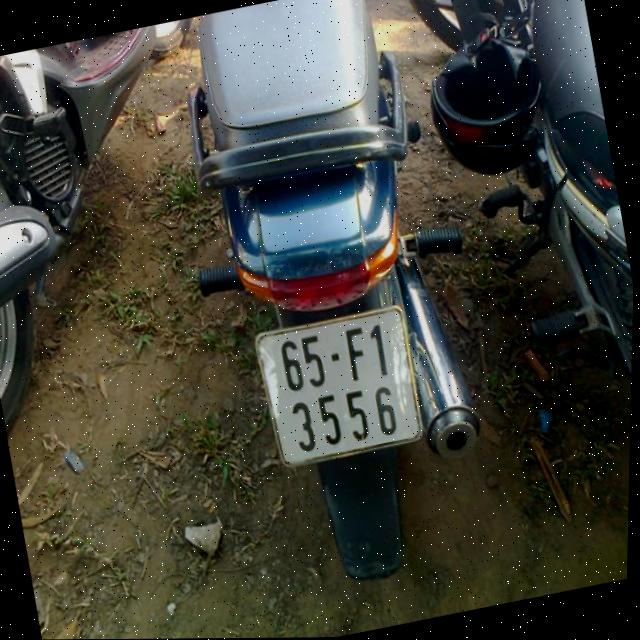motorcycle: (158, 0, 531, 607), (387, 0, 640, 547), (0, 22, 235, 440)
plate: (245, 300, 438, 483)
